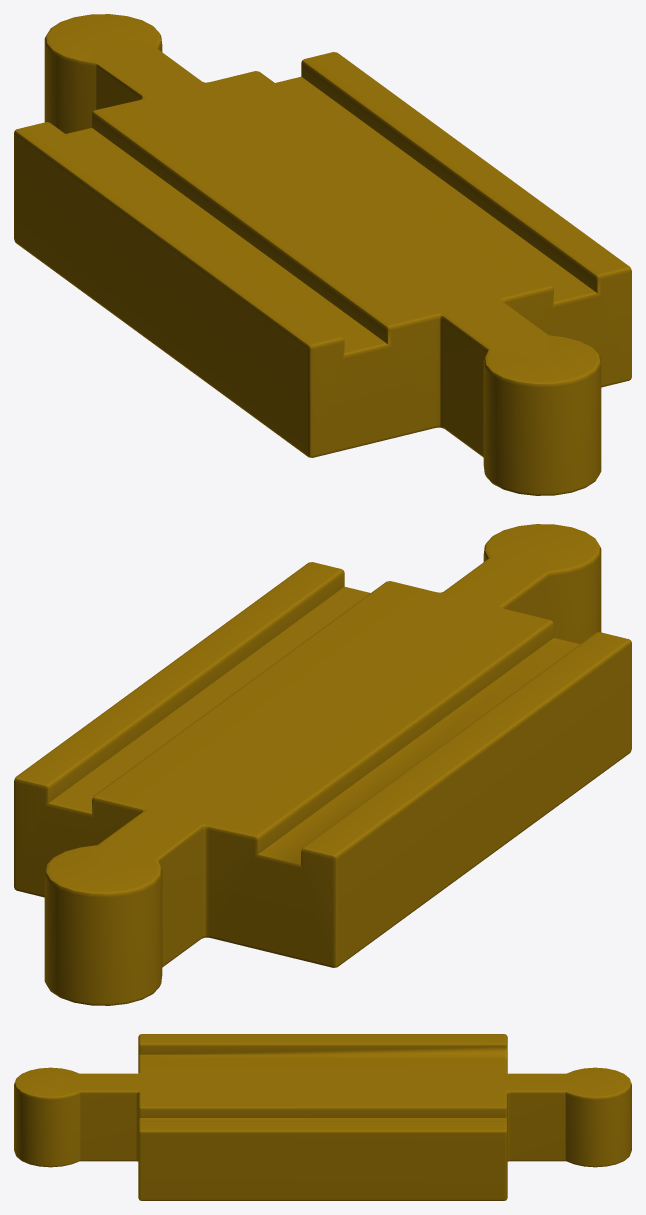
Rendered from Railway_duoPos_s.fbx.
The picture shows the model from 3 angles, top to bottom: view 1: azimuth 30°, elevation 25°; view 2: azimuth 150°, elevation 25°; view 3: azimuth 270°, elevation 25°; orthographic projection. The views are drawn at different scales.
Parts seen in each view (by area): view 1: Railway_duoPos_s; view 2: Railway_duoPos_s; view 3: Railway_duoPos_s.
Boxes of the visible parts, x1,y1,x2,y2 form: Railway_duoPos_s: [14, 14, 631, 495]; Railway_duoPos_s: [14, 524, 631, 1005]; Railway_duoPos_s: [14, 1034, 631, 1200].
Bounding box in the file's own units: 74.98 × 25.28 × 200.
